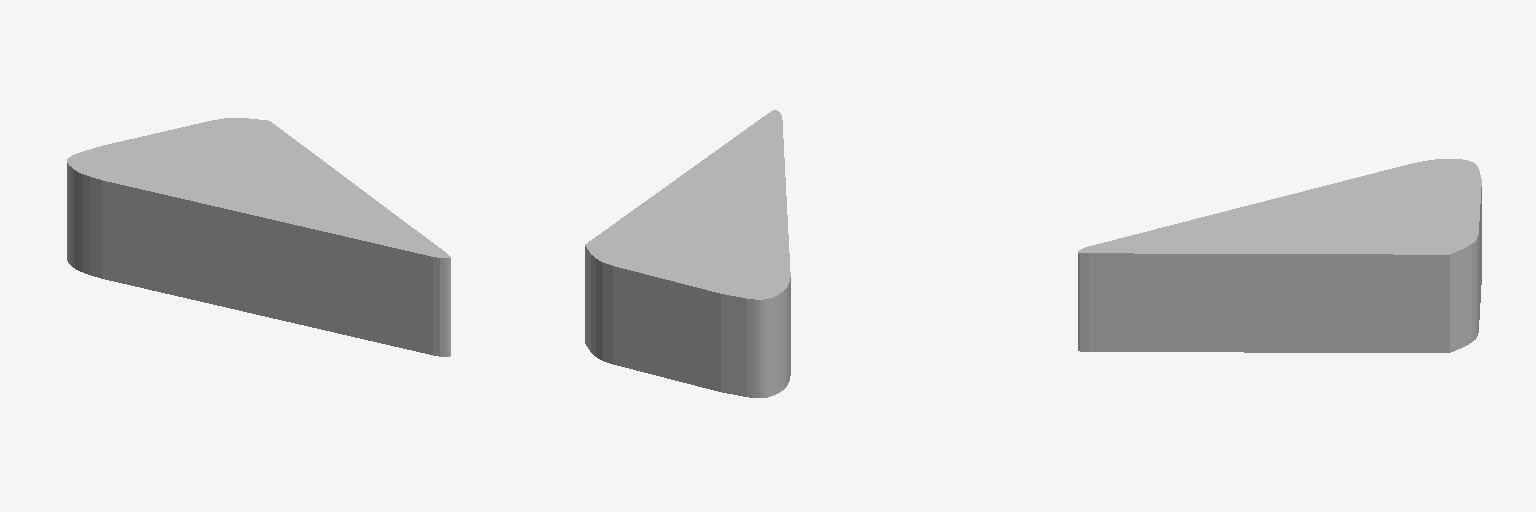
Rendered from obs-esq.obj.
The picture shows the model from 3 angles: view 1: azimuth 30°, elevation 25°; view 2: azimuth 150°, elevation 25°; view 3: azimuth 270°, elevation 25°; orthographic projection.
Parts seen in each view (by area): view 1: obs-tri-esq_Mesh; view 2: obs-tri-esq_Mesh; view 3: obs-tri-esq_Mesh.
Part boxes in pixels (left/top/right/bottom): obs-tri-esq_Mesh: left=67, top=118, right=450, bottom=356; obs-tri-esq_Mesh: left=585, top=110, right=790, bottom=397; obs-tri-esq_Mesh: left=1078, top=159, right=1481, bottom=352.
Size of the model in its own units: 0.0789 by 0.0378 by 0.1403.